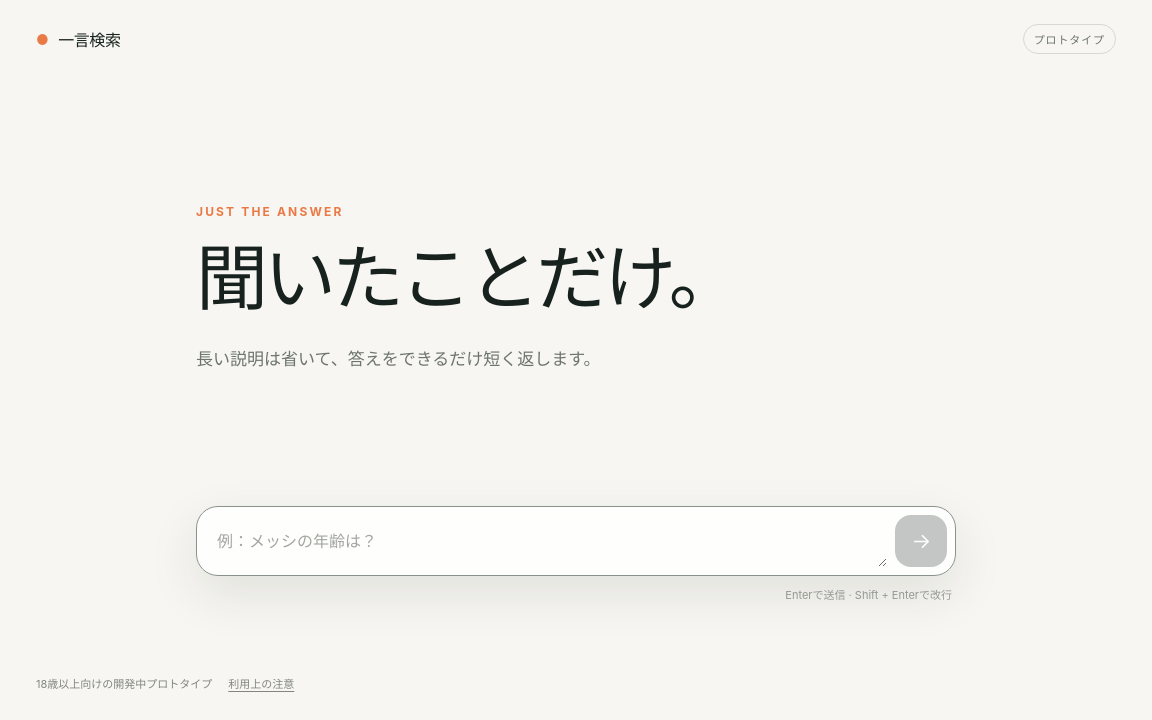
Scenario: App › prevents a second request while the first is pending
In the text box named "質問": (546, 541) [205,515,887,567], type "メッシの年齢は？"
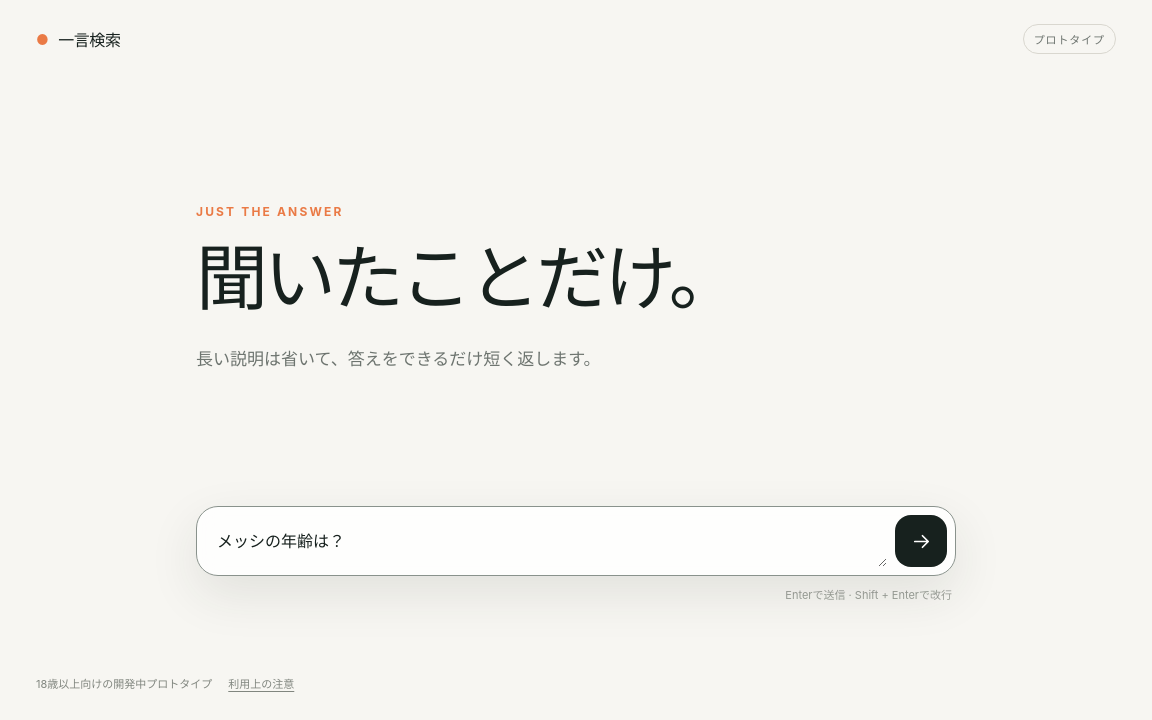
Double-click the button named "送信": (921, 541) [895,515,947,567]
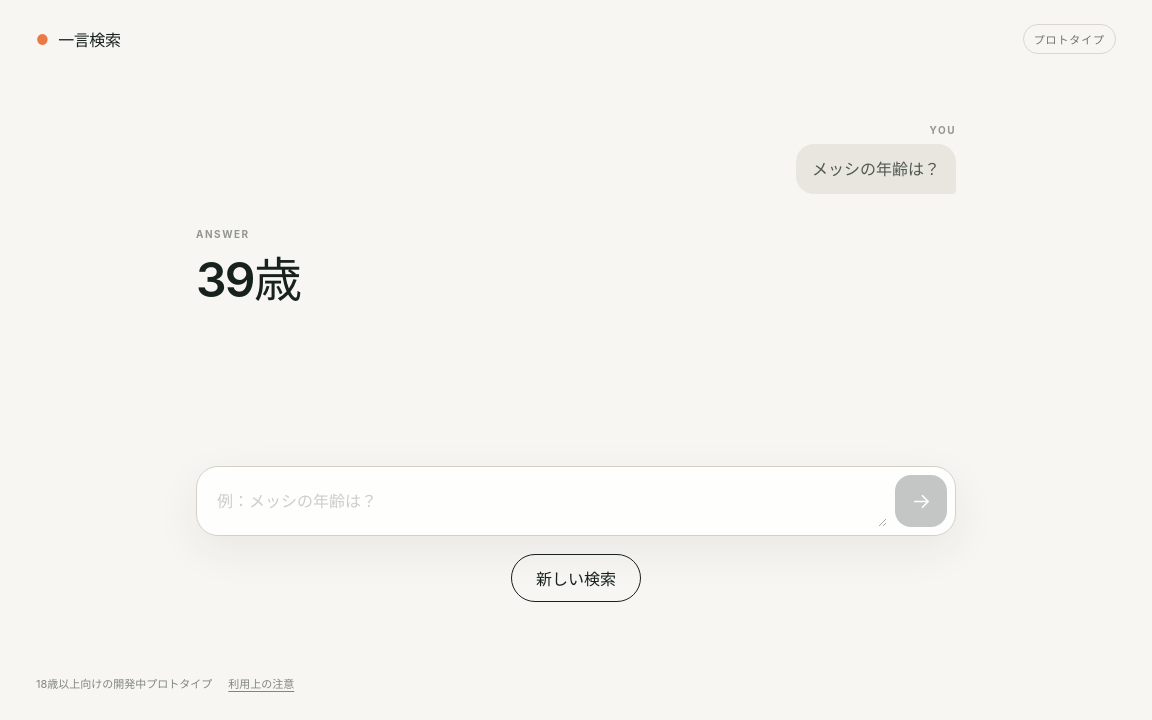
Check: the text "39歳" is shown, box [196,248,300,313]
